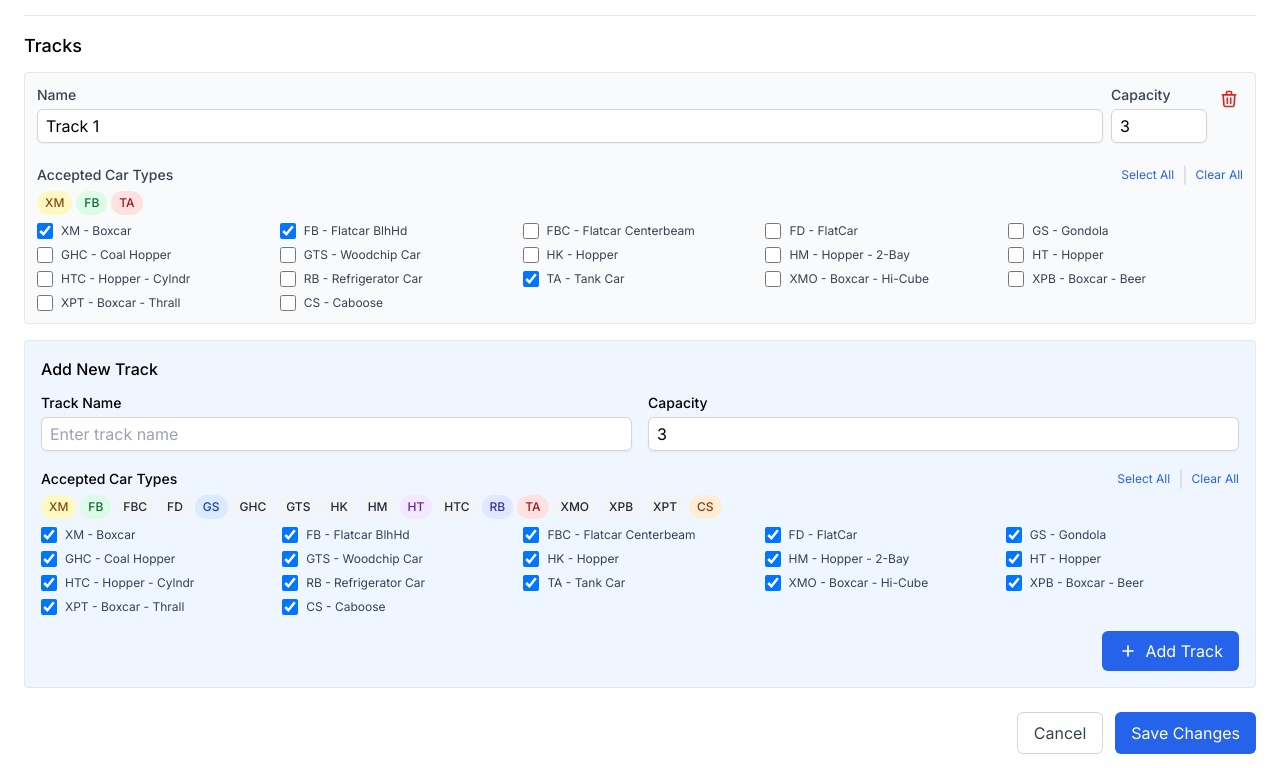
EditIndustryForm › allows selecting car types when adding a new track
The width and height of the screenshot is (1280, 768).
(page scrolled)
Clear new track car types and select only one
Click the button with test id "new-track-clear-all".
click(1215, 479)  # box [1192,467,1239,491]
(page scrolled)
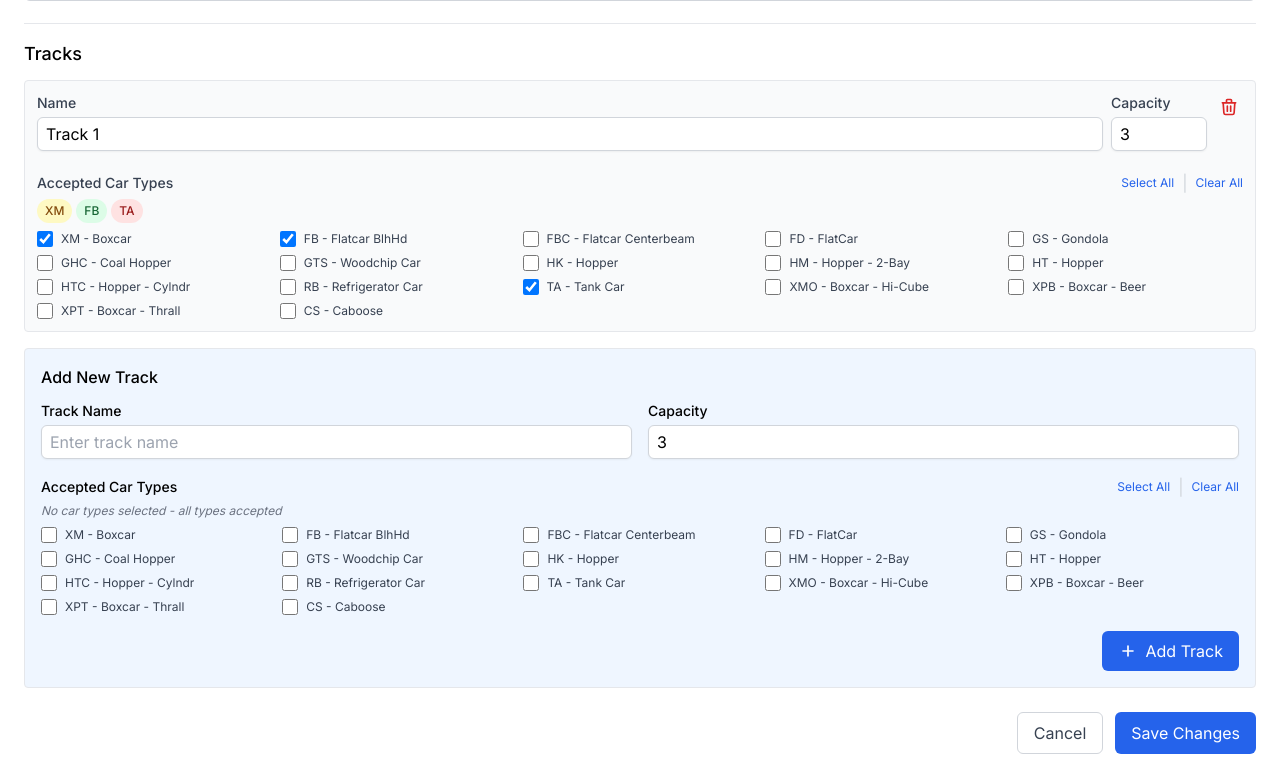
Select a specific car type for the new track
Click the checkbox with test id "new-track-car-type-XM".
click(49, 535)  # box [41,527,57,543]
(page scrolled)
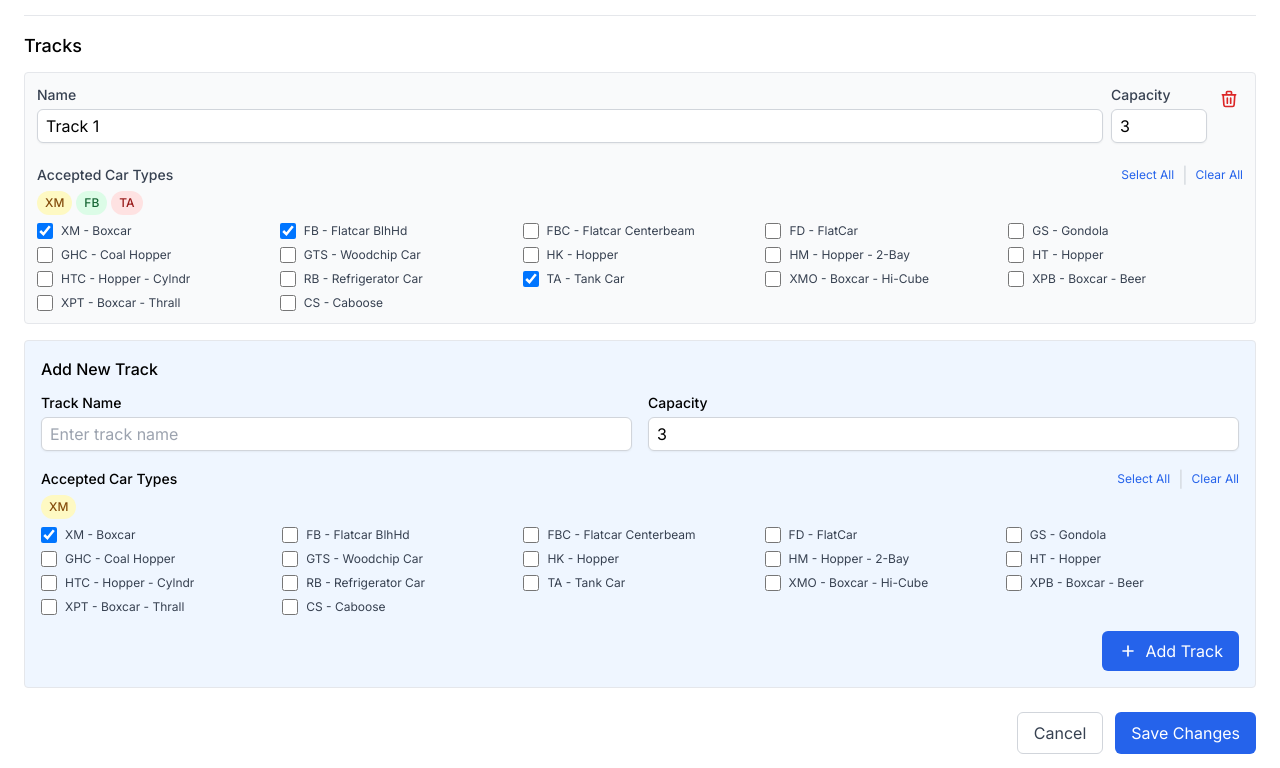
Expected: the text with test id "new-track-type-XM" is shown, [41,495,76,519]
Enter new track information
Type "Boxcar Track" into the field with test id "new-track-name".
click(336, 434); type("Boxcar Track")  # box [41,417,632,451]
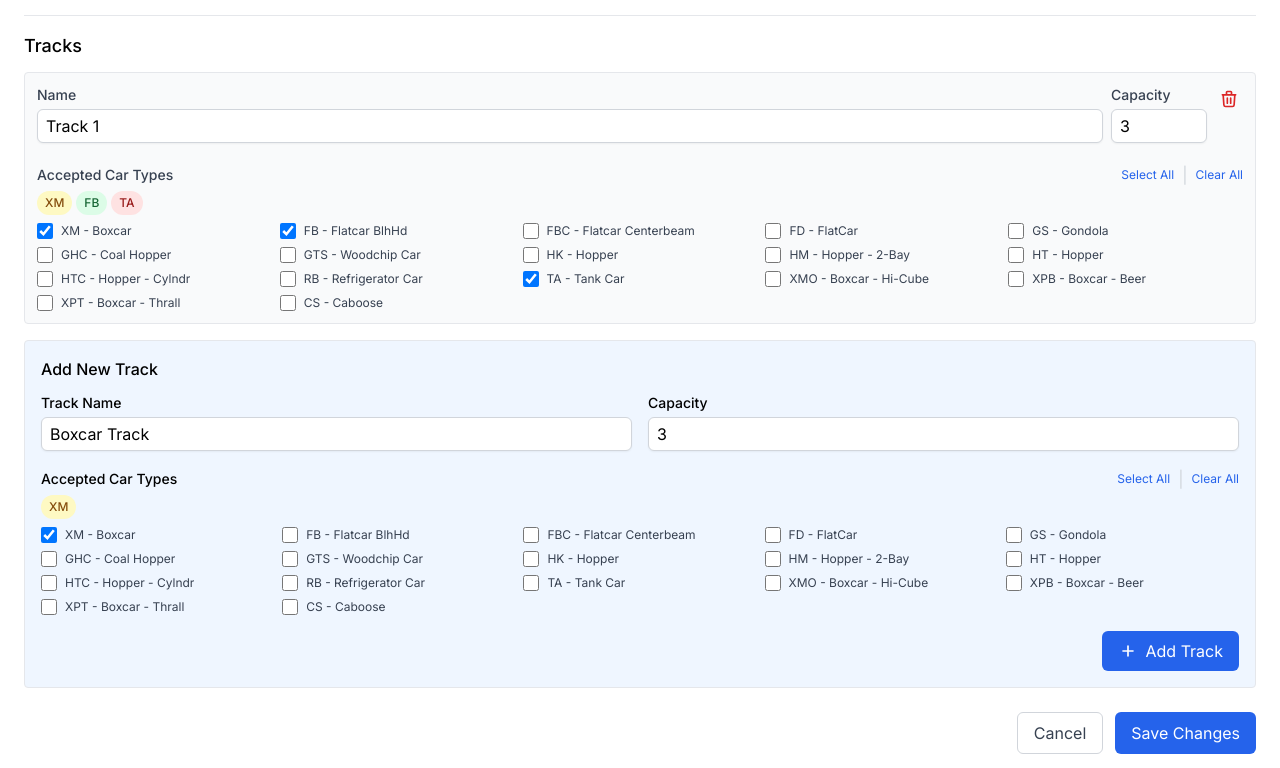
Replace the text in the number field with test id "new-track-capacity" with "5" at (944,434), box [648,417,1239,451]
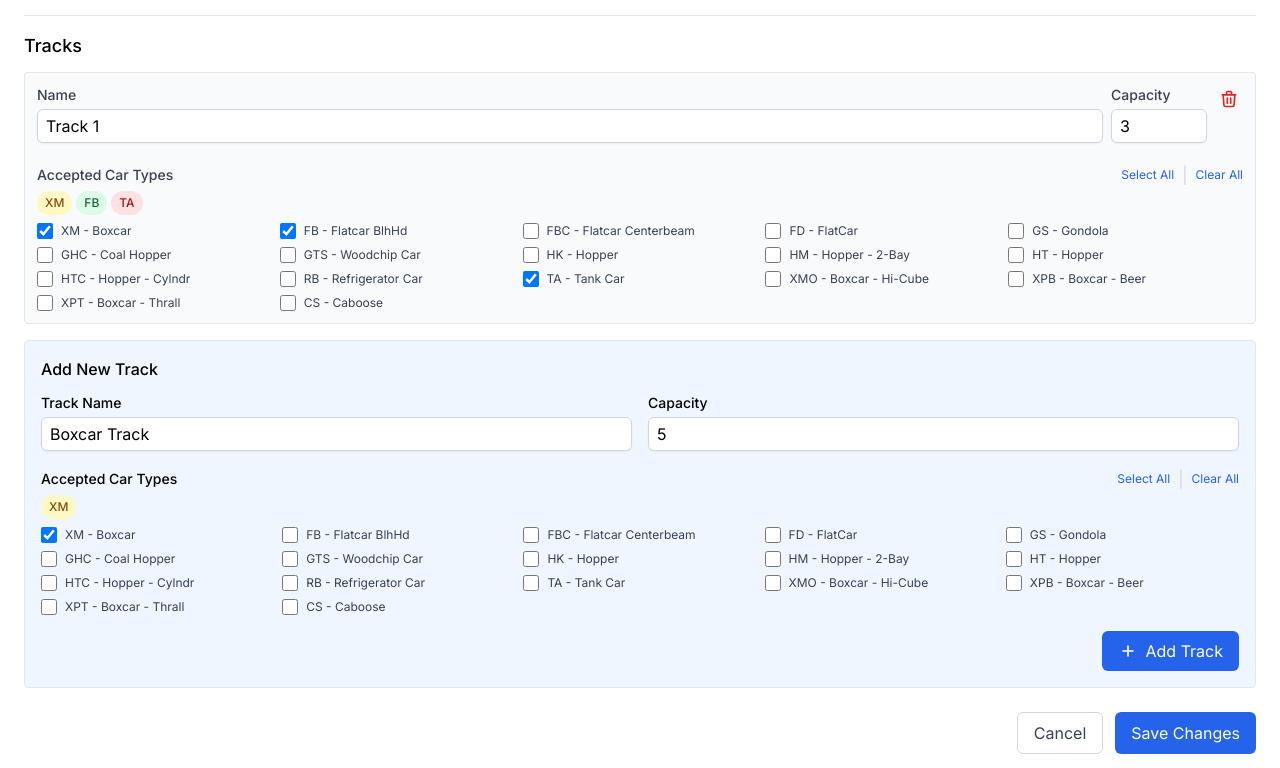
Click add button
Click the button with test id "add-track-button".
click(1170, 651)  # box [1102,631,1239,671]
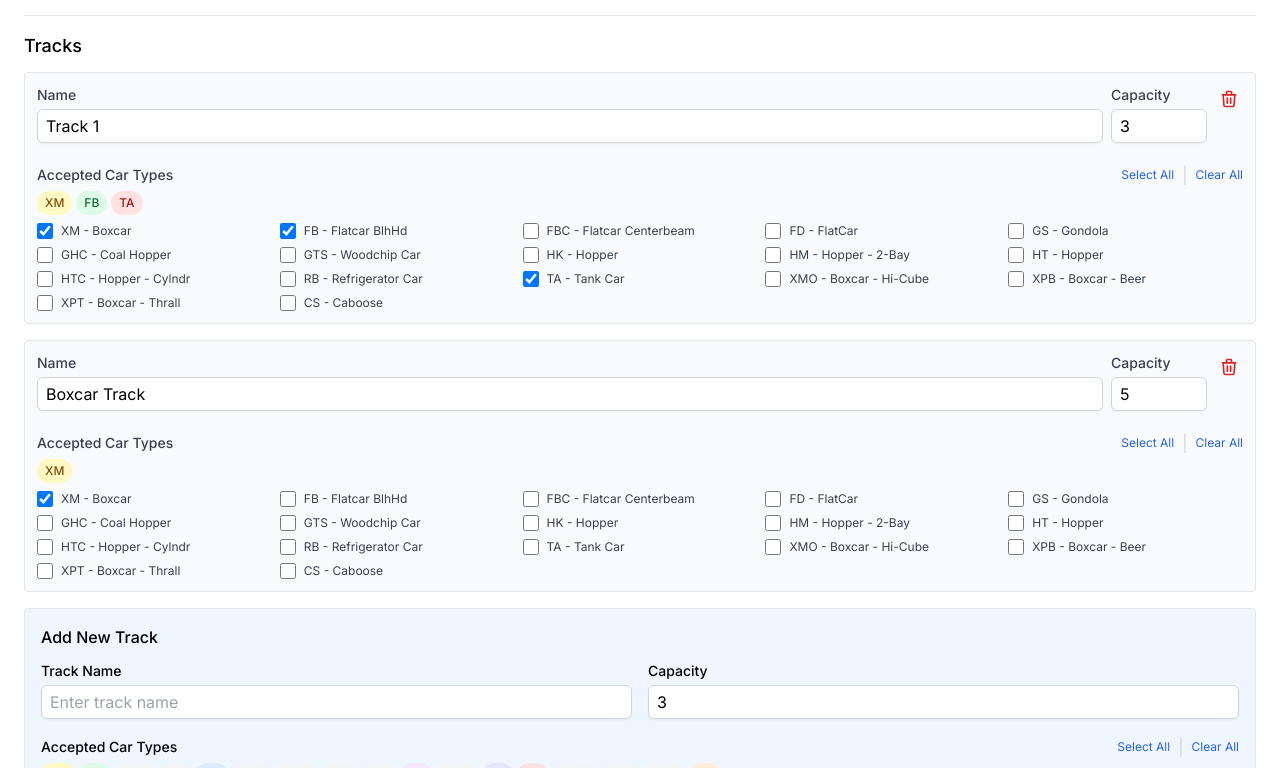
Expected: the field with test id "track-name-1" holds "Boxcar Track", [37,377,1103,411]
Expected: the text with test id "track-1-type-XM" is shown, [37,459,72,483]
